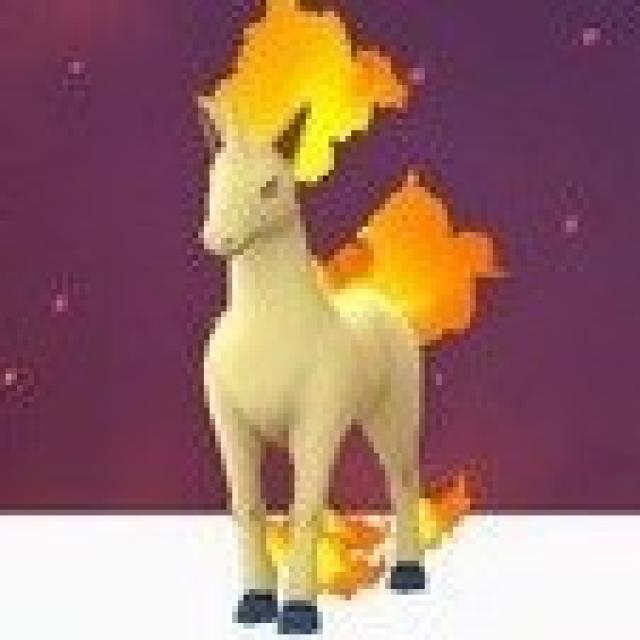Rapidash: (176, 0, 490, 634)
